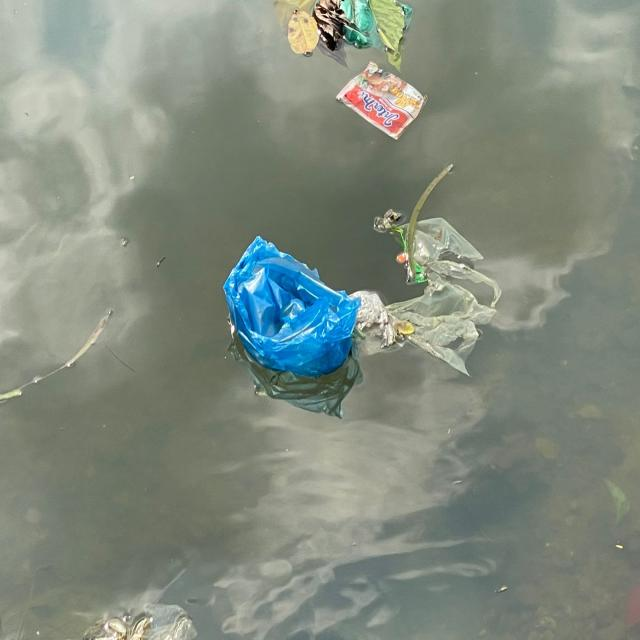Bungkus Makanan: (338, 57, 437, 149)
Kantong Plastik: (217, 220, 372, 400), (372, 215, 515, 385)
